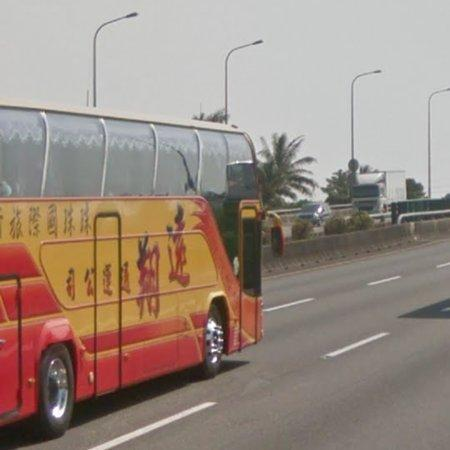buses: (0, 103, 263, 437)
